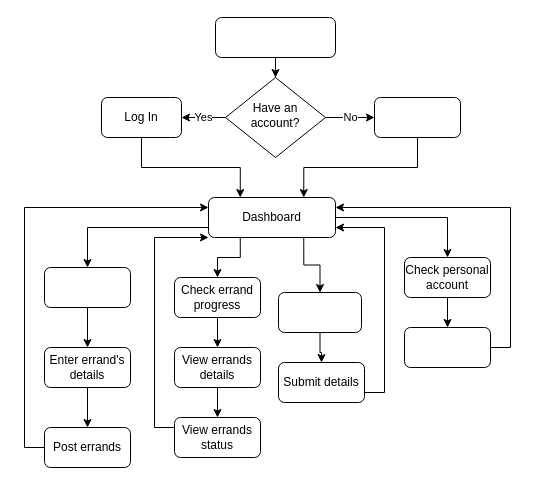
Image size: 536x485. Some labels were removed from this diagram. Here are the shapes that lost their labels. From the top down, the box of each, then its label:
(214, 16, 336, 58): Home
(374, 96, 460, 138): Sign up
(44, 266, 130, 308): Assign errand
(278, 292, 362, 332): Apply as runner
(404, 326, 490, 368): Edit account details
